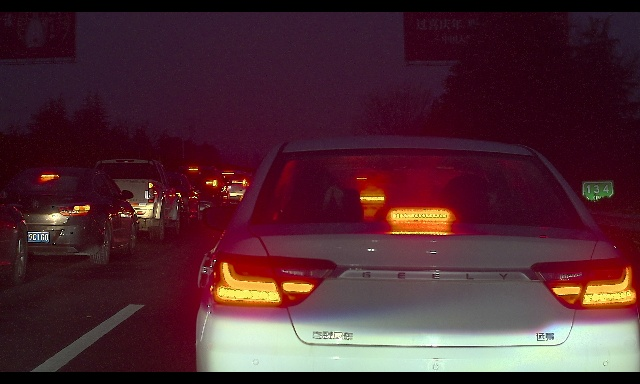car: (196, 136, 640, 372), (0, 167, 139, 265), (94, 159, 179, 242), (141, 172, 200, 226), (0, 191, 28, 284), (177, 165, 230, 209), (215, 171, 249, 200)
